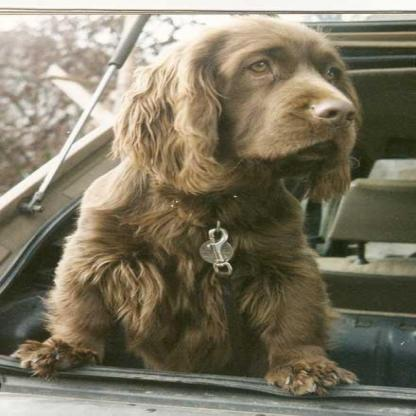Sussex_spaniel: (6, 13, 361, 395)
